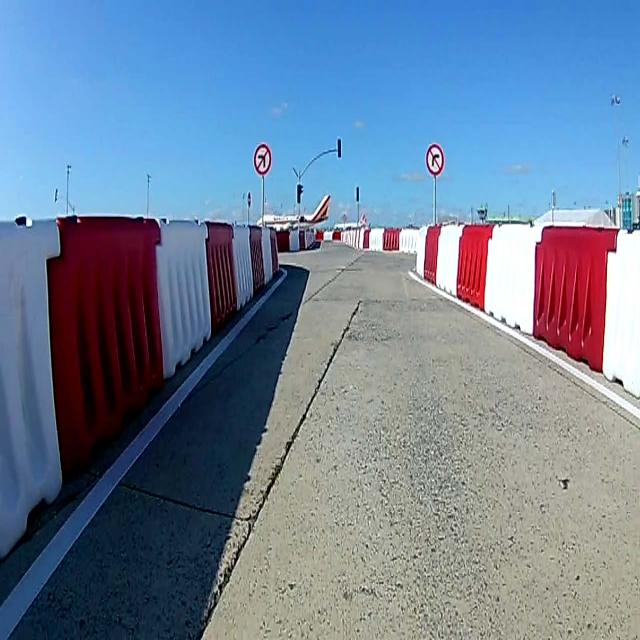sagadonulmez: (426, 144, 443, 174)
soladonulmez: (254, 144, 272, 174)
